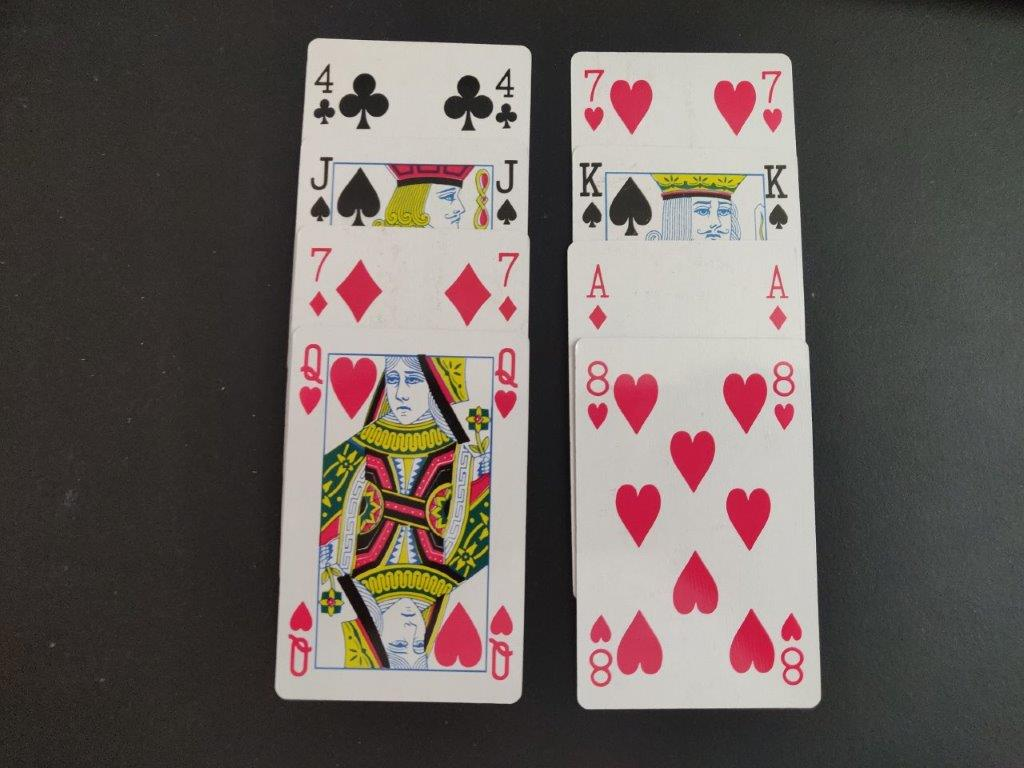4C: (308, 52, 340, 130), (494, 62, 521, 141)
7D: (491, 246, 527, 329), (303, 245, 335, 317)
7H: (752, 60, 788, 137), (578, 64, 610, 137)
8H: (766, 354, 804, 437), (578, 356, 616, 437)
AD: (581, 259, 612, 334), (762, 260, 794, 330)
JS: (301, 151, 345, 234), (486, 154, 523, 228)
KS: (758, 159, 796, 239), (574, 155, 608, 236)
QH: (290, 341, 329, 423), (491, 345, 522, 429)
